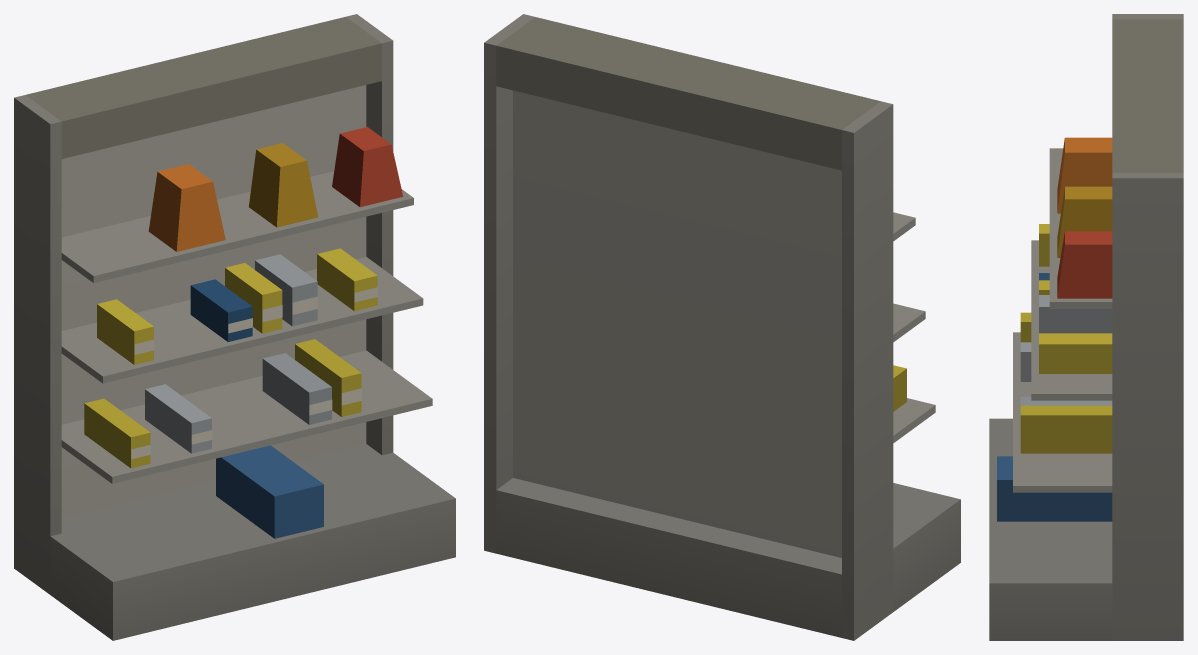
Rendered from shelf.end.picked_over.glb.
3 renders of one model, left to right at view 1: azimuth 30°, elevation 25°; view 2: azimuth 150°, elevation 25°; view 3: azimuth 270°, elevation 25°, orthographic. The views are drawn at different scales.
Parts seen in each view (by area): view 1: shelf_end_picked_over; view 2: shelf_end_picked_over; view 3: shelf_end_picked_over.
Part boxes in pixels (<box>): shelf_end_picked_over: <box>14,14,455,640</box>; shelf_end_picked_over: <box>484,14,960,640</box>; shelf_end_picked_over: <box>989,14,1183,640</box>.
Size of what is drawn, in the model's own units: 1.52 by 2 by 0.762.
